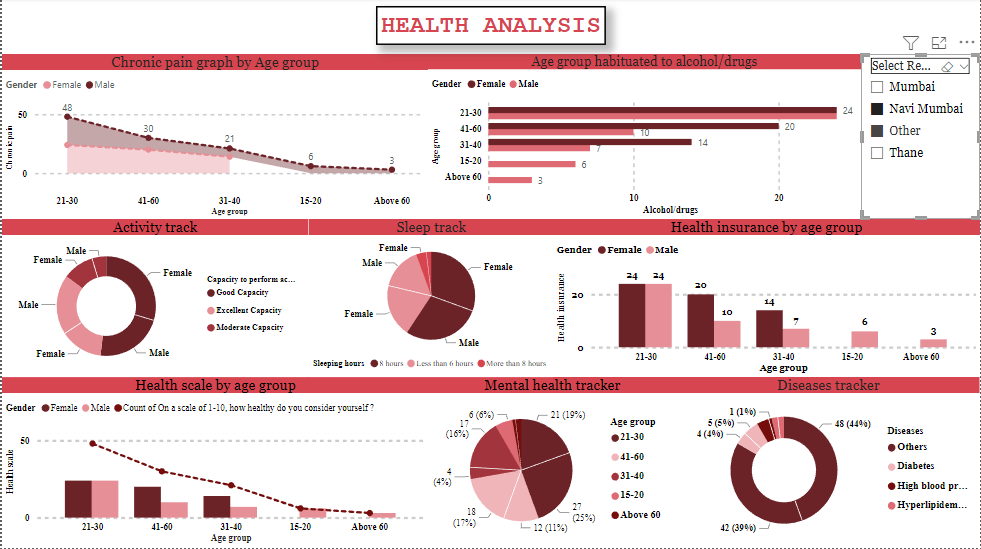

This screenshot's page, from the dashboard's own definition file:
{"tool":"powerbi","page":{"name":"Page 1","canvas":[1280,720],"ordinal":0},"visuals":[{"type":"clusteredColumnChart","title":"Health insurance by age group","fields":{"Series":["Health Analysis.Gender"],"Category":["Health Analysis.Age group"],"Y":["CountNonNull(Health Analysis.Do you have a health insurance ? )"]},"box":[721.3,289.5,558.7,206.6],"z":0},{"type":"slicer","fields":{"Values":["Health Analysis.Select your region of residence"]},"box":[1124.6,73.9,155.1,215.9],"z":1000},{"type":"lineClusteredColumnComboChart","title":"Health scale by age group","fields":{"Category":["Health Analysis.Age group"],"Series":["Health Analysis.Gender"],"Y":["CountNonNull(Health Analysis.On a scale of 1-10, how healthy do you consider yourself ?)"],"Y2":["CountNonNull(Health Analysis.On a scale of 1-10, how healthy do you consider yourself ?)"]},"box":[0,496.1,558.7,223.5],"z":2000},{"type":"stackedAreaChart","title":"Chronic pain graph by Age group ","fields":{"Category":["Health Analysis.Age group"],"Y":["CountNonNull(Health Analysis.Do you experience any chronic pain ?)"],"Series":["Health Analysis.Gender"]},"box":[0,73.4,558.3,216.1],"z":3000},{"type":"donutChart","title":"Activity track","fields":{"Category":["Health Analysis.In your opinion, at what capacity can you perform everyday activities ? "],"Series":["Health Analysis.Gender"],"Y":["CountNonNull(Health Analysis.Gender)"]},"box":[0,289.5,401.3,206.6],"z":4000},{"type":"clusteredBarChart","title":"Age group  habituated to alcohol/drugs","fields":{"Y":["CountNonNull(Health Analysis.Are you habituated to alcohol/drugs ?)"],"Series":["Health Analysis.Gender"],"Category":["Health Analysis.Age group"]},"box":[558.3,73.4,566.6,216.1],"z":5000},{"type":"pieChart","title":"Mental health tracker","fields":{"Category":["Health Analysis.Age group"],"Y":["CountNonNull(Health Analysis.Does your mental well being has an affect on your physical health ?)"],"Series":["Health Analysis.Does your mental well being has an affect on your physical health ?"]},"box":[558.3,495.9,325.5,223],"z":6000},{"type":"donutChart","title":"Diseases tracker","fields":{"Series":["Health Analysis.Gender"],"Category":["Health Analysis.Do you have any hereditary conditions/ diseases ?"],"Y":["CountNonNull(Health Analysis.Do you have any hereditary conditions/ diseases ?)"]},"box":[883.8,495.9,396.2,223],"z":7000},{"type":"pieChart","title":"Sleep track","fields":{"Category":["Health Analysis.How much hours of sleep do you get on a daily basis ? "],"Y":["CountNonNull(Health Analysis.Gender)"],"Series":["Health Analysis.Gender"]},"box":[401.3,289.5,320,206.6],"z":8000},{"type":"shape","box":[489,11.1,300.6,51.3],"z":9000}]}

Visuals, with their boxes in screenshot pixels (x1, y1, x2, y2), scaled from the page's 1280x720 canvas onto the 981x549 screenshot:
"Health insurance by age group" clusteredColumnChart: (x1=553, y1=221, x2=980, y2=378)
slicer - Health Analysis.Select your region of residence: (x1=862, y1=56, x2=980, y2=221)
"Health scale by age group" lineClusteredColumnComboChart: (x1=0, y1=378, x2=428, y2=548)
"Chronic pain graph by Age group " stackedAreaChart: (x1=0, y1=56, x2=428, y2=221)
"Activity track" donutChart: (x1=0, y1=221, x2=308, y2=378)
"Age group  habituated to alcohol/drugs" clusteredBarChart: (x1=428, y1=56, x2=862, y2=221)
"Mental health tracker" pieChart: (x1=428, y1=378, x2=677, y2=548)
"Diseases tracker" donutChart: (x1=677, y1=378, x2=980, y2=548)
"Sleep track" pieChart: (x1=308, y1=221, x2=553, y2=378)
shape: (x1=375, y1=8, x2=605, y2=48)
